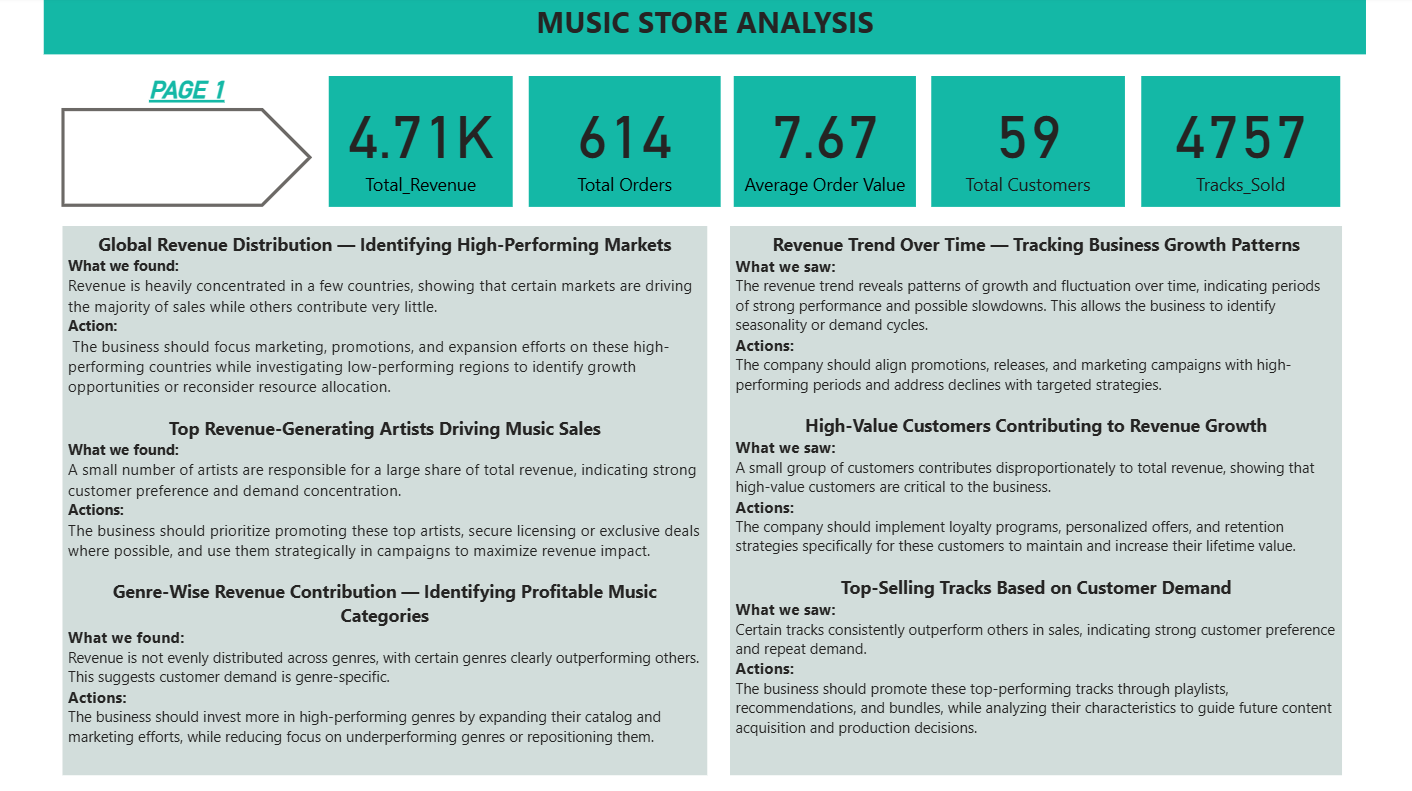

The dashboard page shown, as its layout file describes it:
{"tool":"powerbi","page":{"name":"Page 1","canvas":[1280,720],"ordinal":0},"visuals":[{"type":"textbox","box":[40,0,1196.4,52.7],"z":0},{"type":"card","fields":{"Values":["Sum(Invoiceline.quantity)"]},"box":[56.4,74.5,167.3,118.2],"z":1000},{"type":"card","fields":{"Values":["CountNonNull(Customers.customer_id)"]},"box":[792.7,70.9,174.5,118.2],"z":2000},{"type":"card","fields":{"Values":["Album.Total Revenue"]},"box":[1032.7,72.7,180,118.2],"z":3000},{"type":"card","fields":{"Values":["CountNonNull(Invoice.invoice_id)"]},"box":[292.7,70.9,172.7,116.4],"z":4000},{"type":"card","fields":{"Values":["Album.Avg Order Value"]},"box":[540,72.7,165.5,118.2],"z":5000},{"type":"barChart","fields":{"Category":["Genre.name"],"Y":["Sum(Invoice.total)"]},"box":[39.8,210.8,324.1,227.7],"z":6000},{"type":"barChart","fields":{"Category":["Customers.first_name"],"Series":["Customers.last_name"],"Y":["Sum(Invoice.total)"]},"box":[379.5,468.7,326.5,237.3],"z":7000},{"type":"map","fields":{"Category":["Invoice.billing_country"],"Size":["Sum(Invoice.total)"]},"box":[379.5,210.8,326.5,227.7],"z":8000},{"type":"hundredPercentStackedBarChart","fields":{"Category":["Artist.name"],"Y":["Sum(Invoiceline.quantity)","Sum(Invoiceline.unit_price)"]},"box":[727.7,210.8,336.1,227.7],"z":9000},{"type":"tableEx","fields":{"Values":["Tracks.name","Artist.name","Sum(Invoiceline.quantity)"]},"box":[34.9,468.7,328.9,237.3],"z":10000},{"type":"donutChart","fields":{"Category":["MediaType.name"],"Y":["Sum(Invoiceline.quantity)"]},"box":[727.7,468.7,336.1,237.3],"z":11000},{"type":"slicer","fields":{"Values":["Genre.name"]},"box":[1086.9,211.9,160.7,83.3],"z":12000},{"type":"slicer","fields":{"Values":["Artist.name"]},"box":[1086.9,325,160.7,88.1],"z":13000},{"type":"slicer","fields":{"Values":["MediaType.name"]},"box":[1092.9,586.9,154.8,92.9],"z":14000},{"type":"slicer","fields":{"Values":["Invoice.billing_country"]},"box":[1091.7,467.9,156,89.3],"z":15000}]}

Visuals, with their boxes in screenshot pixels (x1, y1, x2, y2), scaled from the page's 1280x720 canvas onto the 1412x791 screenshot:
textbox: (44, 0, 1364, 58)
card - Sum(Invoiceline.quantity): (62, 82, 247, 212)
card - CountNonNull(Customers.customer_id): (874, 78, 1067, 208)
card - Album.Total Revenue: (1139, 80, 1338, 210)
card - CountNonNull(Invoice.invoice_id): (323, 78, 513, 206)
card - Album.Avg Order Value: (596, 80, 778, 210)
barChart - Genre.name x Sum(Invoice.total): (44, 232, 401, 482)
barChart - Customers.first_name x Customers.last_name: (419, 515, 779, 776)
map - Invoice.billing_country x Sum(Invoice.total): (419, 232, 779, 482)
hundredPercentStackedBarChart - Artist.name x Sum(Invoiceline.quantity): (803, 232, 1174, 482)
tableEx - Tracks.name x Artist.name: (38, 515, 401, 776)
donutChart - MediaType.name x Sum(Invoiceline.quantity): (803, 515, 1174, 776)
slicer - Genre.name: (1199, 233, 1376, 324)
slicer - Artist.name: (1199, 357, 1376, 454)
slicer - MediaType.name: (1206, 645, 1376, 747)
slicer - Invoice.billing_country: (1204, 514, 1376, 612)
